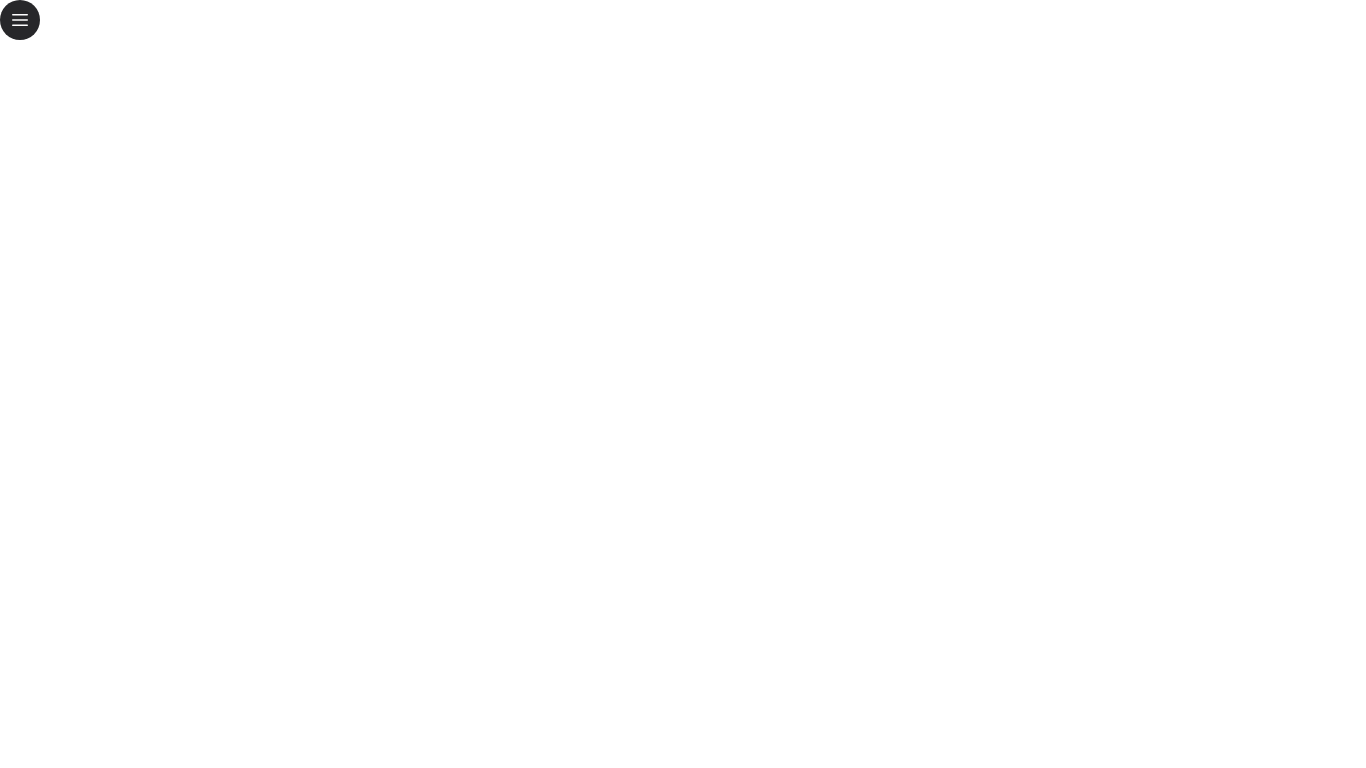
Scenario: MobileMenu › Menu Toggle Functionality › toggles menu on button click
Note: Click to open
Click the button named "toggle navigation menu": [20, 20] box [0,0,40,40]
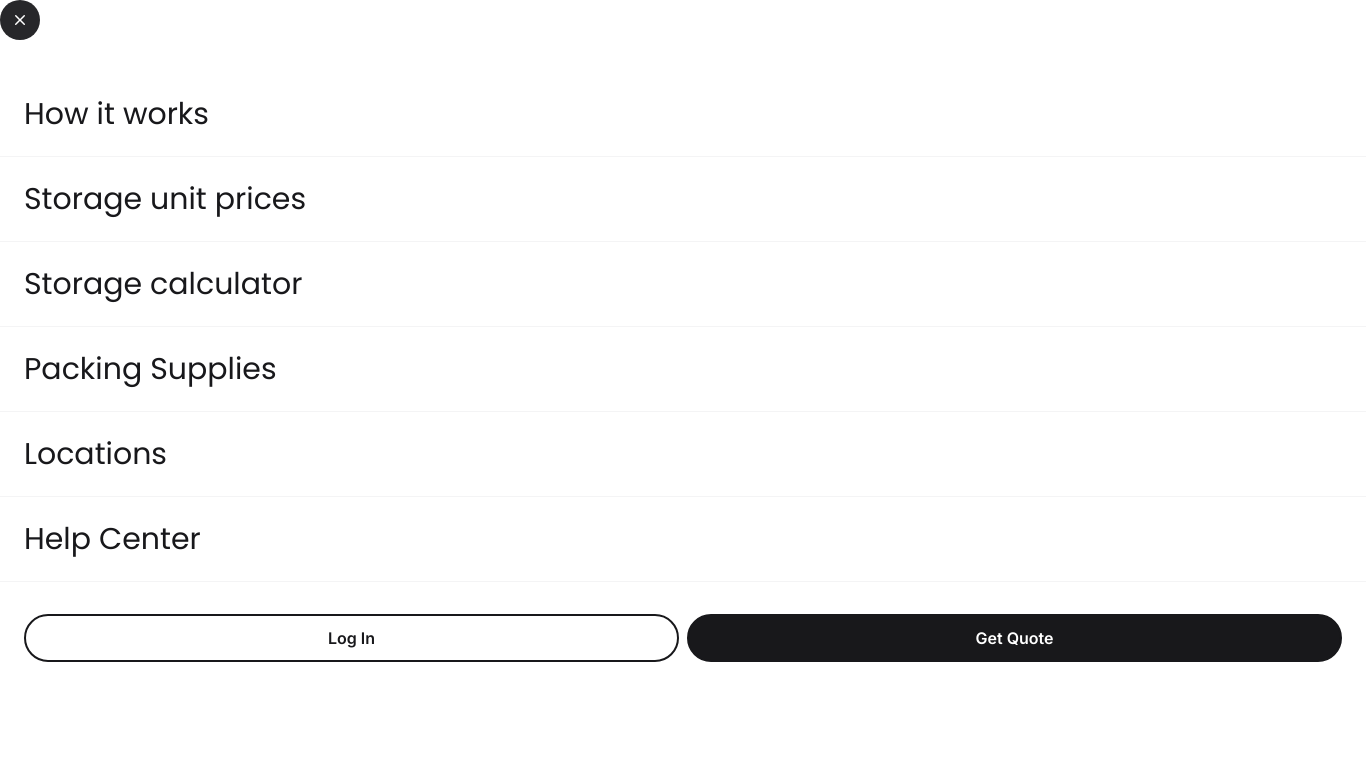
Now the button named "toggle navigation menu" is expanded, box [0,0,40,40]
